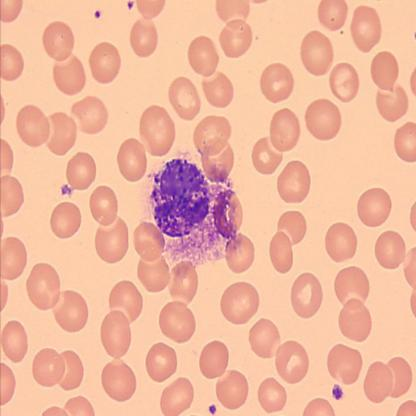Basophil: (148, 156, 212, 237)
